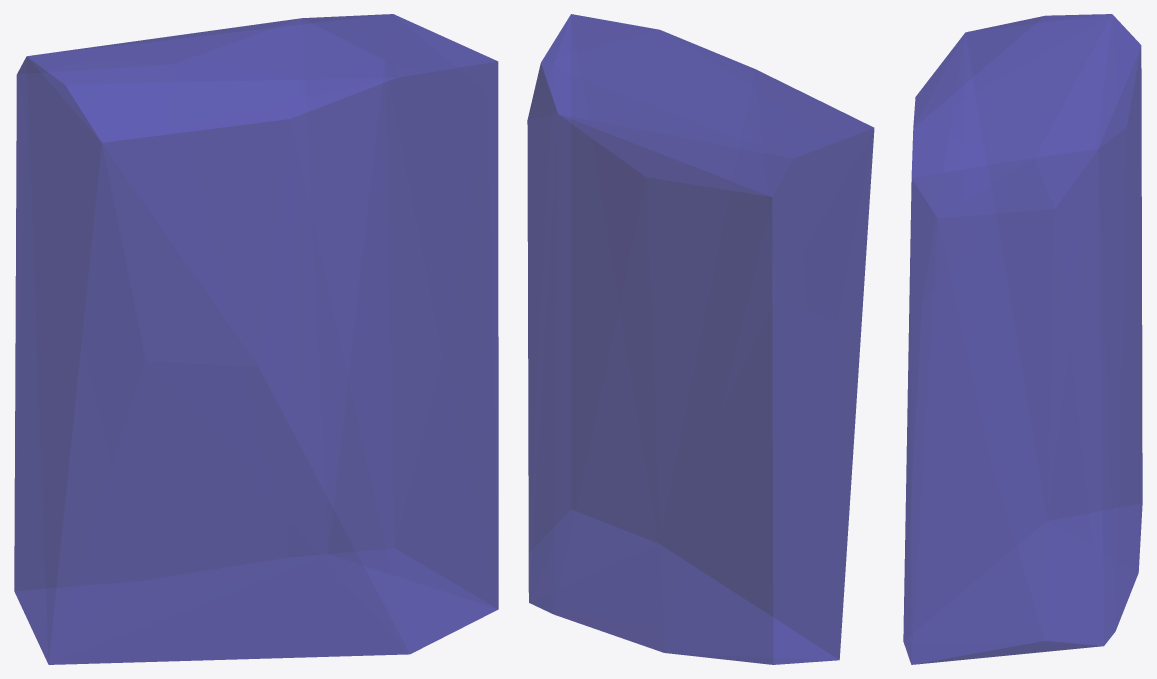
3 renders of one model, left to right at view 1: azimuth 30°, elevation 25°; view 2: azimuth 150°, elevation 25°; view 3: azimuth 270°, elevation 25°, orthographic. The views are drawn at different scales.
Visible parts, largest first — view 1: Shape_IndexedFaceSet.013_Shape_IndexedFaceSet.18236; view 2: Shape_IndexedFaceSet.013_Shape_IndexedFaceSet.18236; view 3: Shape_IndexedFaceSet.013_Shape_IndexedFaceSet.18236.
Part boxes in pixels (x1=…): Shape_IndexedFaceSet.013_Shape_IndexedFaceSet.18236: x1=14, y1=14, x2=498, y2=664; Shape_IndexedFaceSet.013_Shape_IndexedFaceSet.18236: x1=527, y1=14, x2=874, y2=664; Shape_IndexedFaceSet.013_Shape_IndexedFaceSet.18236: x1=903, y1=14, x2=1142, y2=664.
Size of the model in its own units: 0.1802 by 0.2641 by 0.1115.
